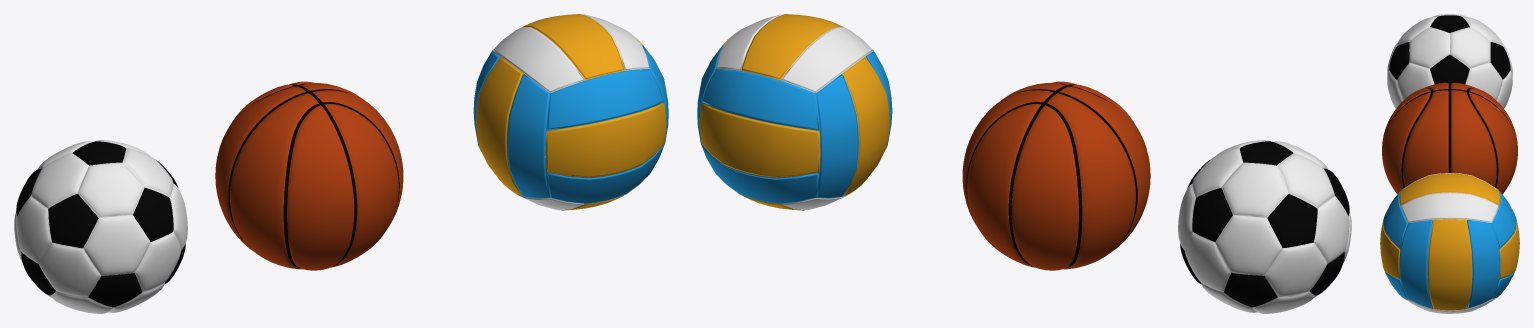
Rendered from balls-d.glb.
3 views of the same model, side by side, from view 1: azimuth 30°, elevation 25°; view 2: azimuth 150°, elevation 25°; view 3: azimuth 270°, elevation 25° (orthographic). The views are drawn at different scales.
Visible parts, largest first — view 1: volleyball, basketball, soccerball; view 2: volleyball, basketball, soccerball; view 3: volleyball, basketball, soccerball.
Part boxes in pixels (x1=…): volleyball: x1=473, y1=14, x2=668, y2=210; basketball: x1=215, y1=81, x2=403, y2=270; soccerball: x1=14, y1=140, x2=187, y2=313; volleyball: x1=697, y1=14, x2=892, y2=210; basketball: x1=962, y1=81, x2=1150, y2=270; soccerball: x1=1178, y1=140, x2=1351, y2=313; volleyball: x1=1380, y1=173, x2=1519, y2=313; basketball: x1=1382, y1=82, x2=1517, y2=193; soccerball: x1=1387, y1=14, x2=1512, y2=108.
Size of the model in its own units: 6.26 by 1.66 by 1.66.
